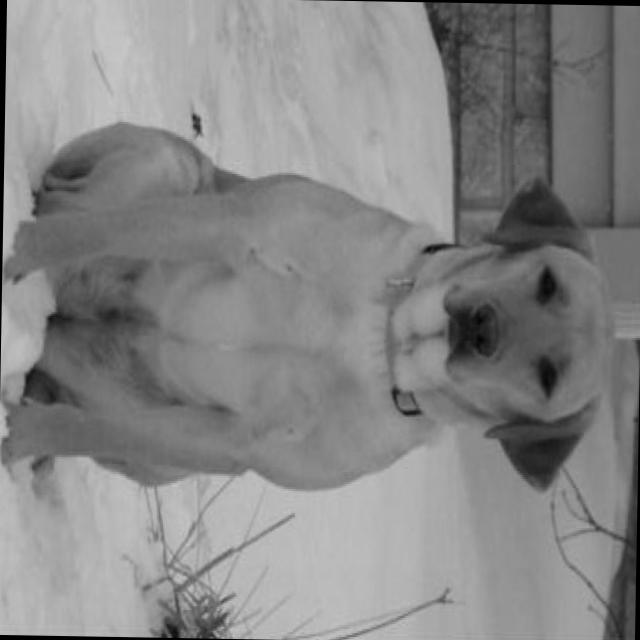sitting: (0, 111, 622, 523)
